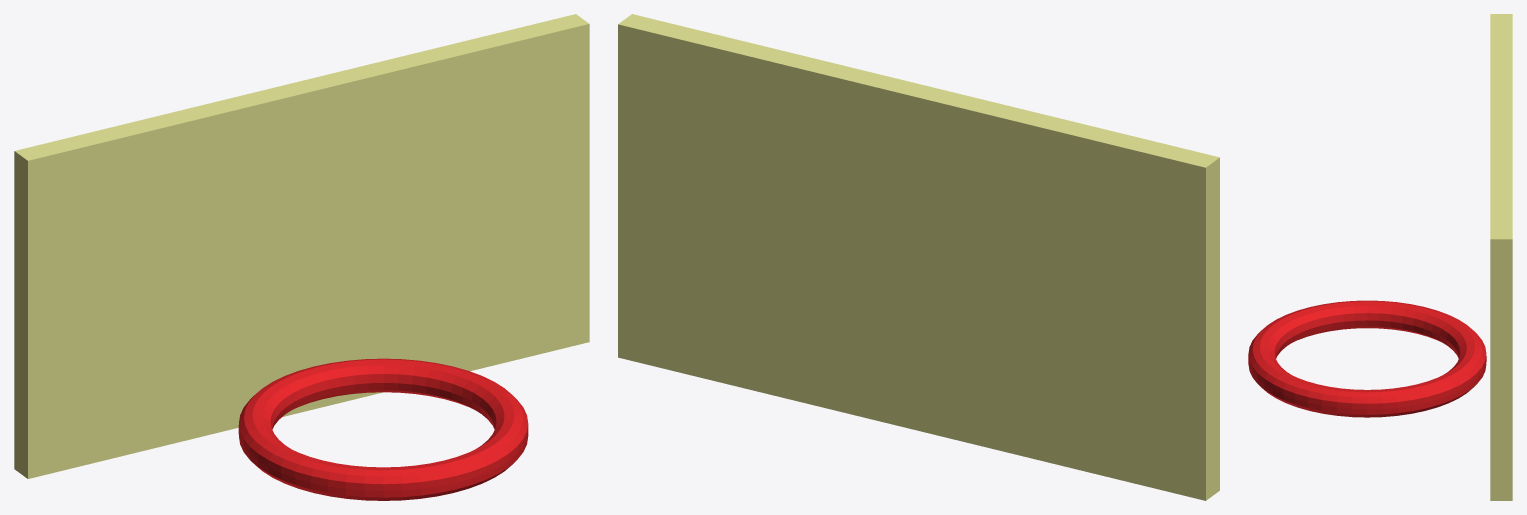
Rendered from cesta2.glb.
3 renders of one model, left to right at view 1: azimuth 30°, elevation 25°; view 2: azimuth 150°, elevation 25°; view 3: azimuth 270°, elevation 25°, orthographic. The views are drawn at different scales.
Visible parts, largest first — view 1: quadro, cesta; view 2: quadro; view 3: cesta, quadro.
Boxes of the visible parts, left/top/right/bottom form: quadro: left=14, top=14, right=589, bottom=478; cesta: left=238, top=358, right=528, bottom=500; quadro: left=618, top=14, right=1219, bottom=500; cesta: left=1248, top=300, right=1486, bottom=417; quadro: left=1490, top=14, right=1512, bottom=500.
Size of the model in its own units: 2.4 by 1.3 by 1.19.
